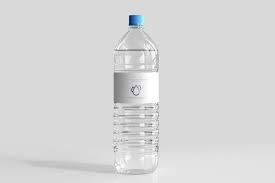PlasticBottle: (110, 10, 161, 176)
